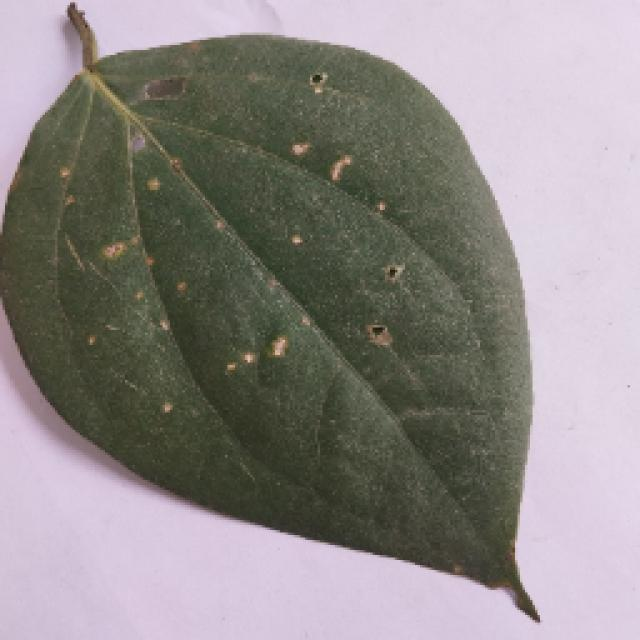pollu-disease: (0, 30, 552, 625)
